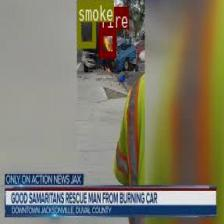fire: (99, 29, 115, 57)
smoke: (77, 0, 95, 47)
